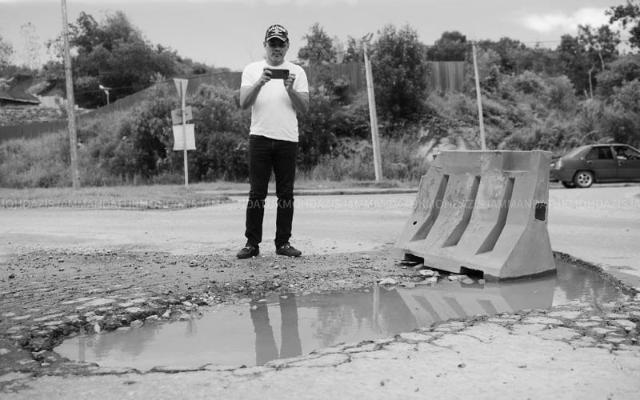Pothole: (40, 249, 640, 375)
